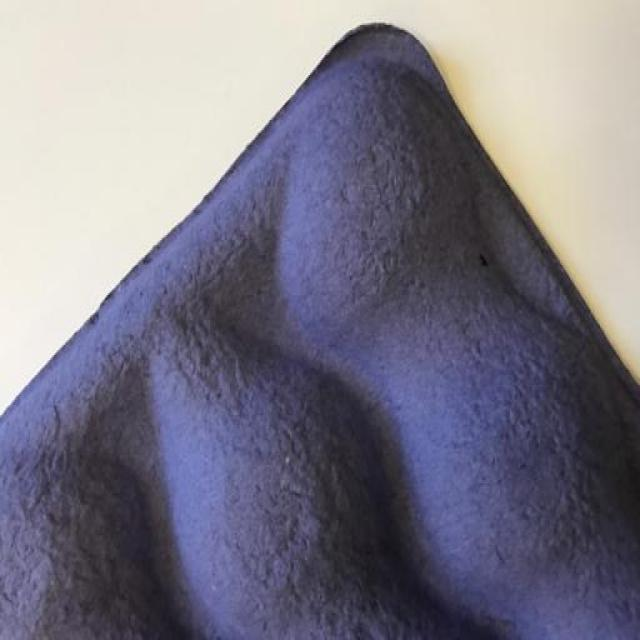paper: (0, 19, 639, 638)
